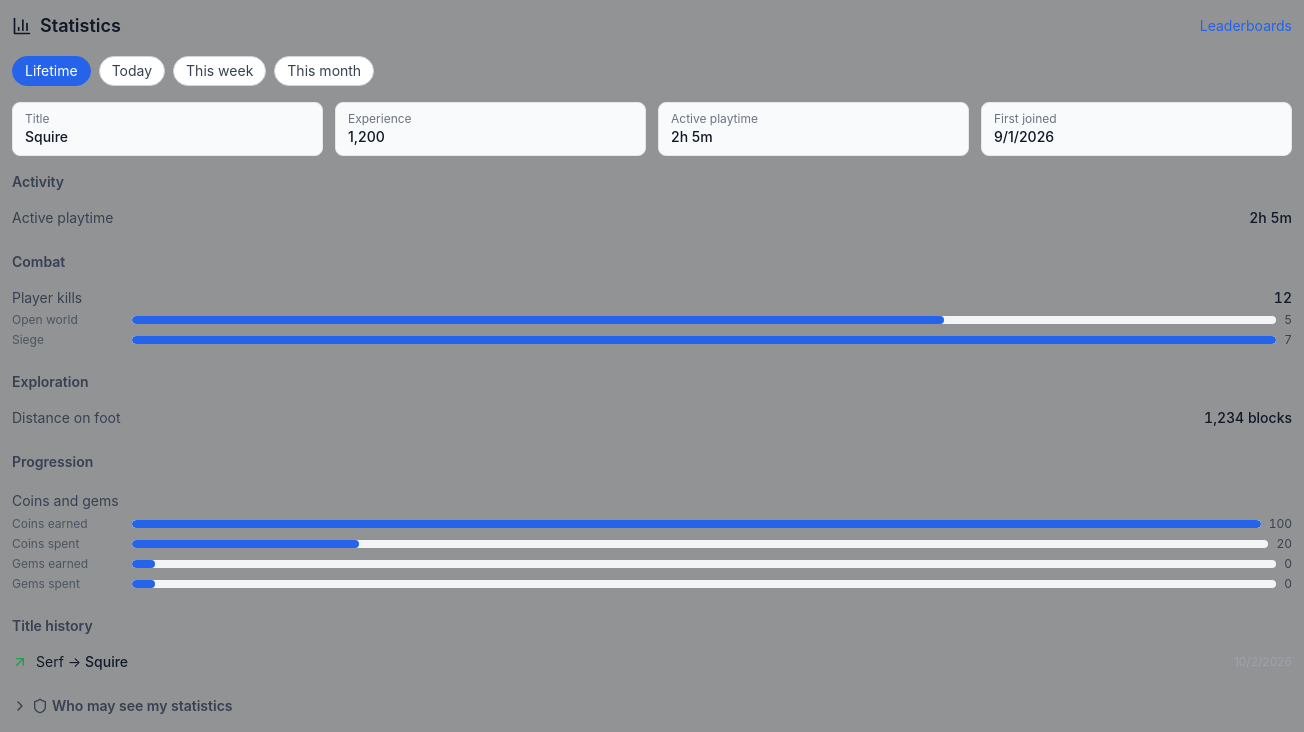
Test: MyStatisticsSection › switches period with the tabs
Expected: the text "Player kills" is shown, [12,288,82,308]
Click the tab "This week". click: point(220, 71)
box: [173,56,266,86]
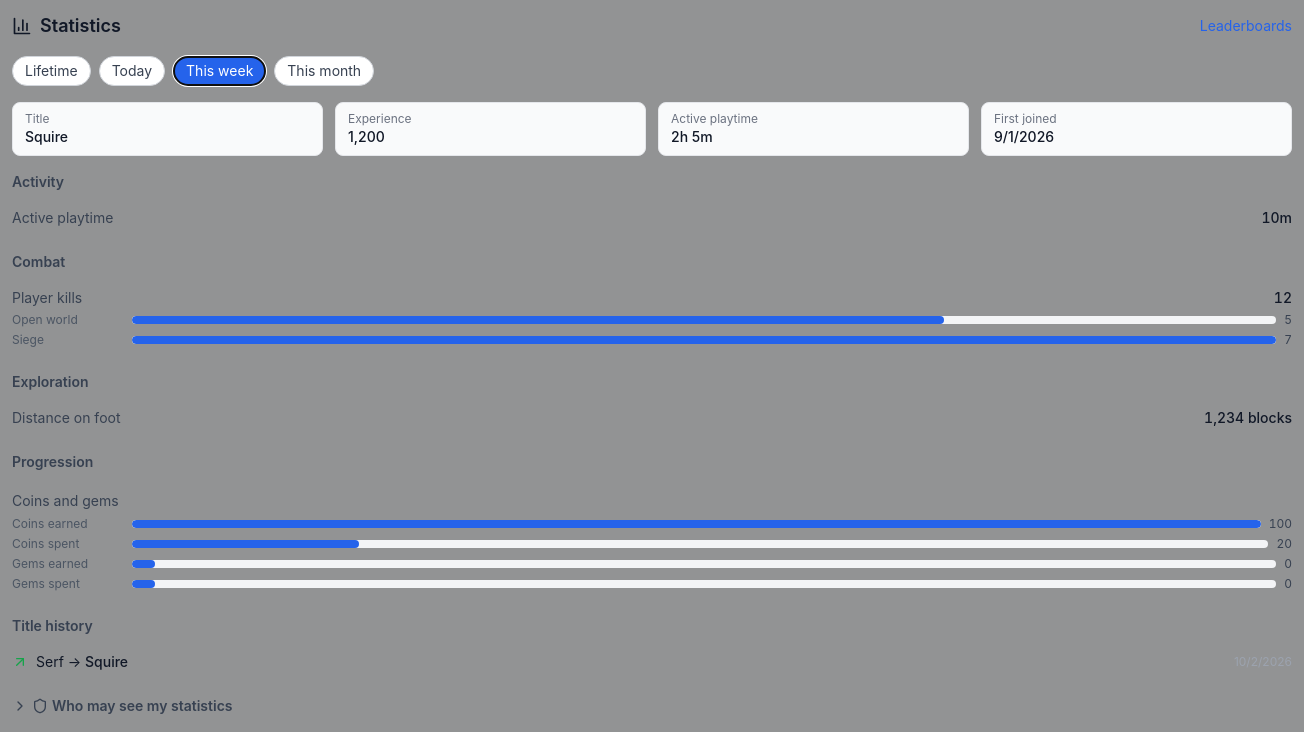
Expected: the text "10m" is shown, [1261,208,1292,228]
